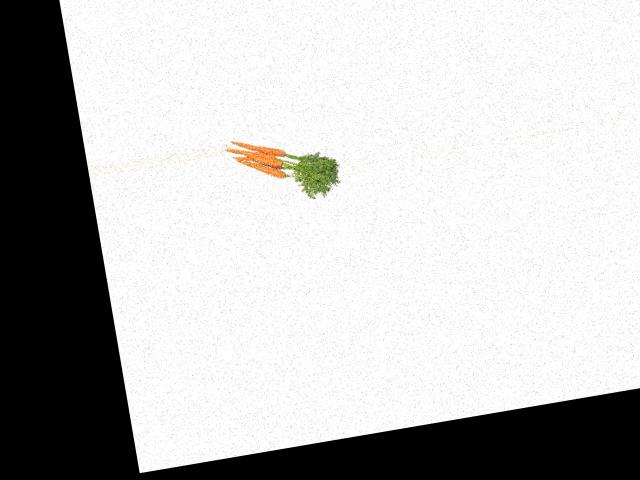carrot: (227, 126, 289, 167)
